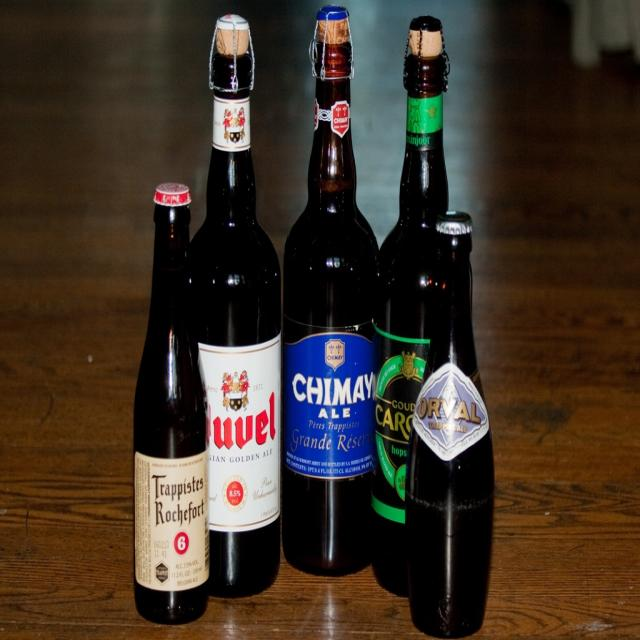chimay: (284, 331, 376, 482)
